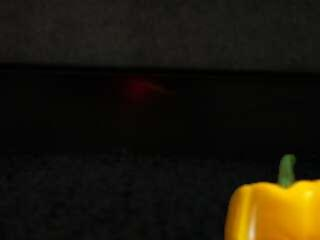Capsicum: (224, 155, 319, 240)
